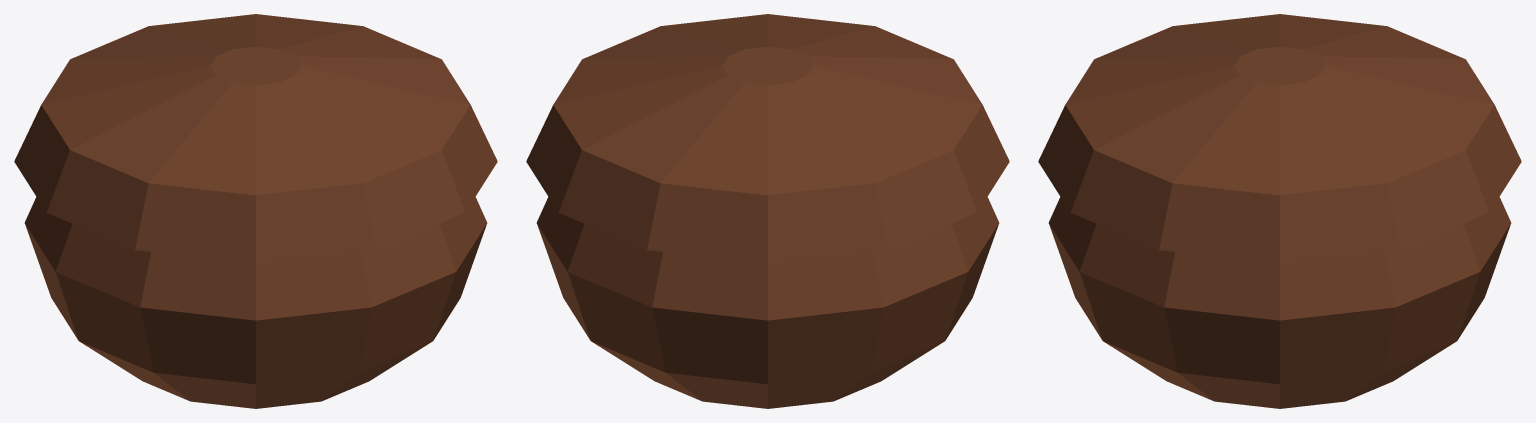
The model's file is Pot2WMat.glb.
3 views of the same model, side by side, from view 1: azimuth 30°, elevation 25°; view 2: azimuth 150°, elevation 25°; view 3: azimuth 270°, elevation 25° (orthographic).
Parts seen in each view (by area): view 1: Pot2; view 2: Pot2; view 3: Pot2.
Boxes of the visible parts, bbox=[...] form: Pot2: bbox=[14, 14, 497, 408]; Pot2: bbox=[526, 14, 1009, 408]; Pot2: bbox=[1038, 14, 1521, 408].
Size of the model in its own units: 1.1 by 0.7193 by 1.1.
